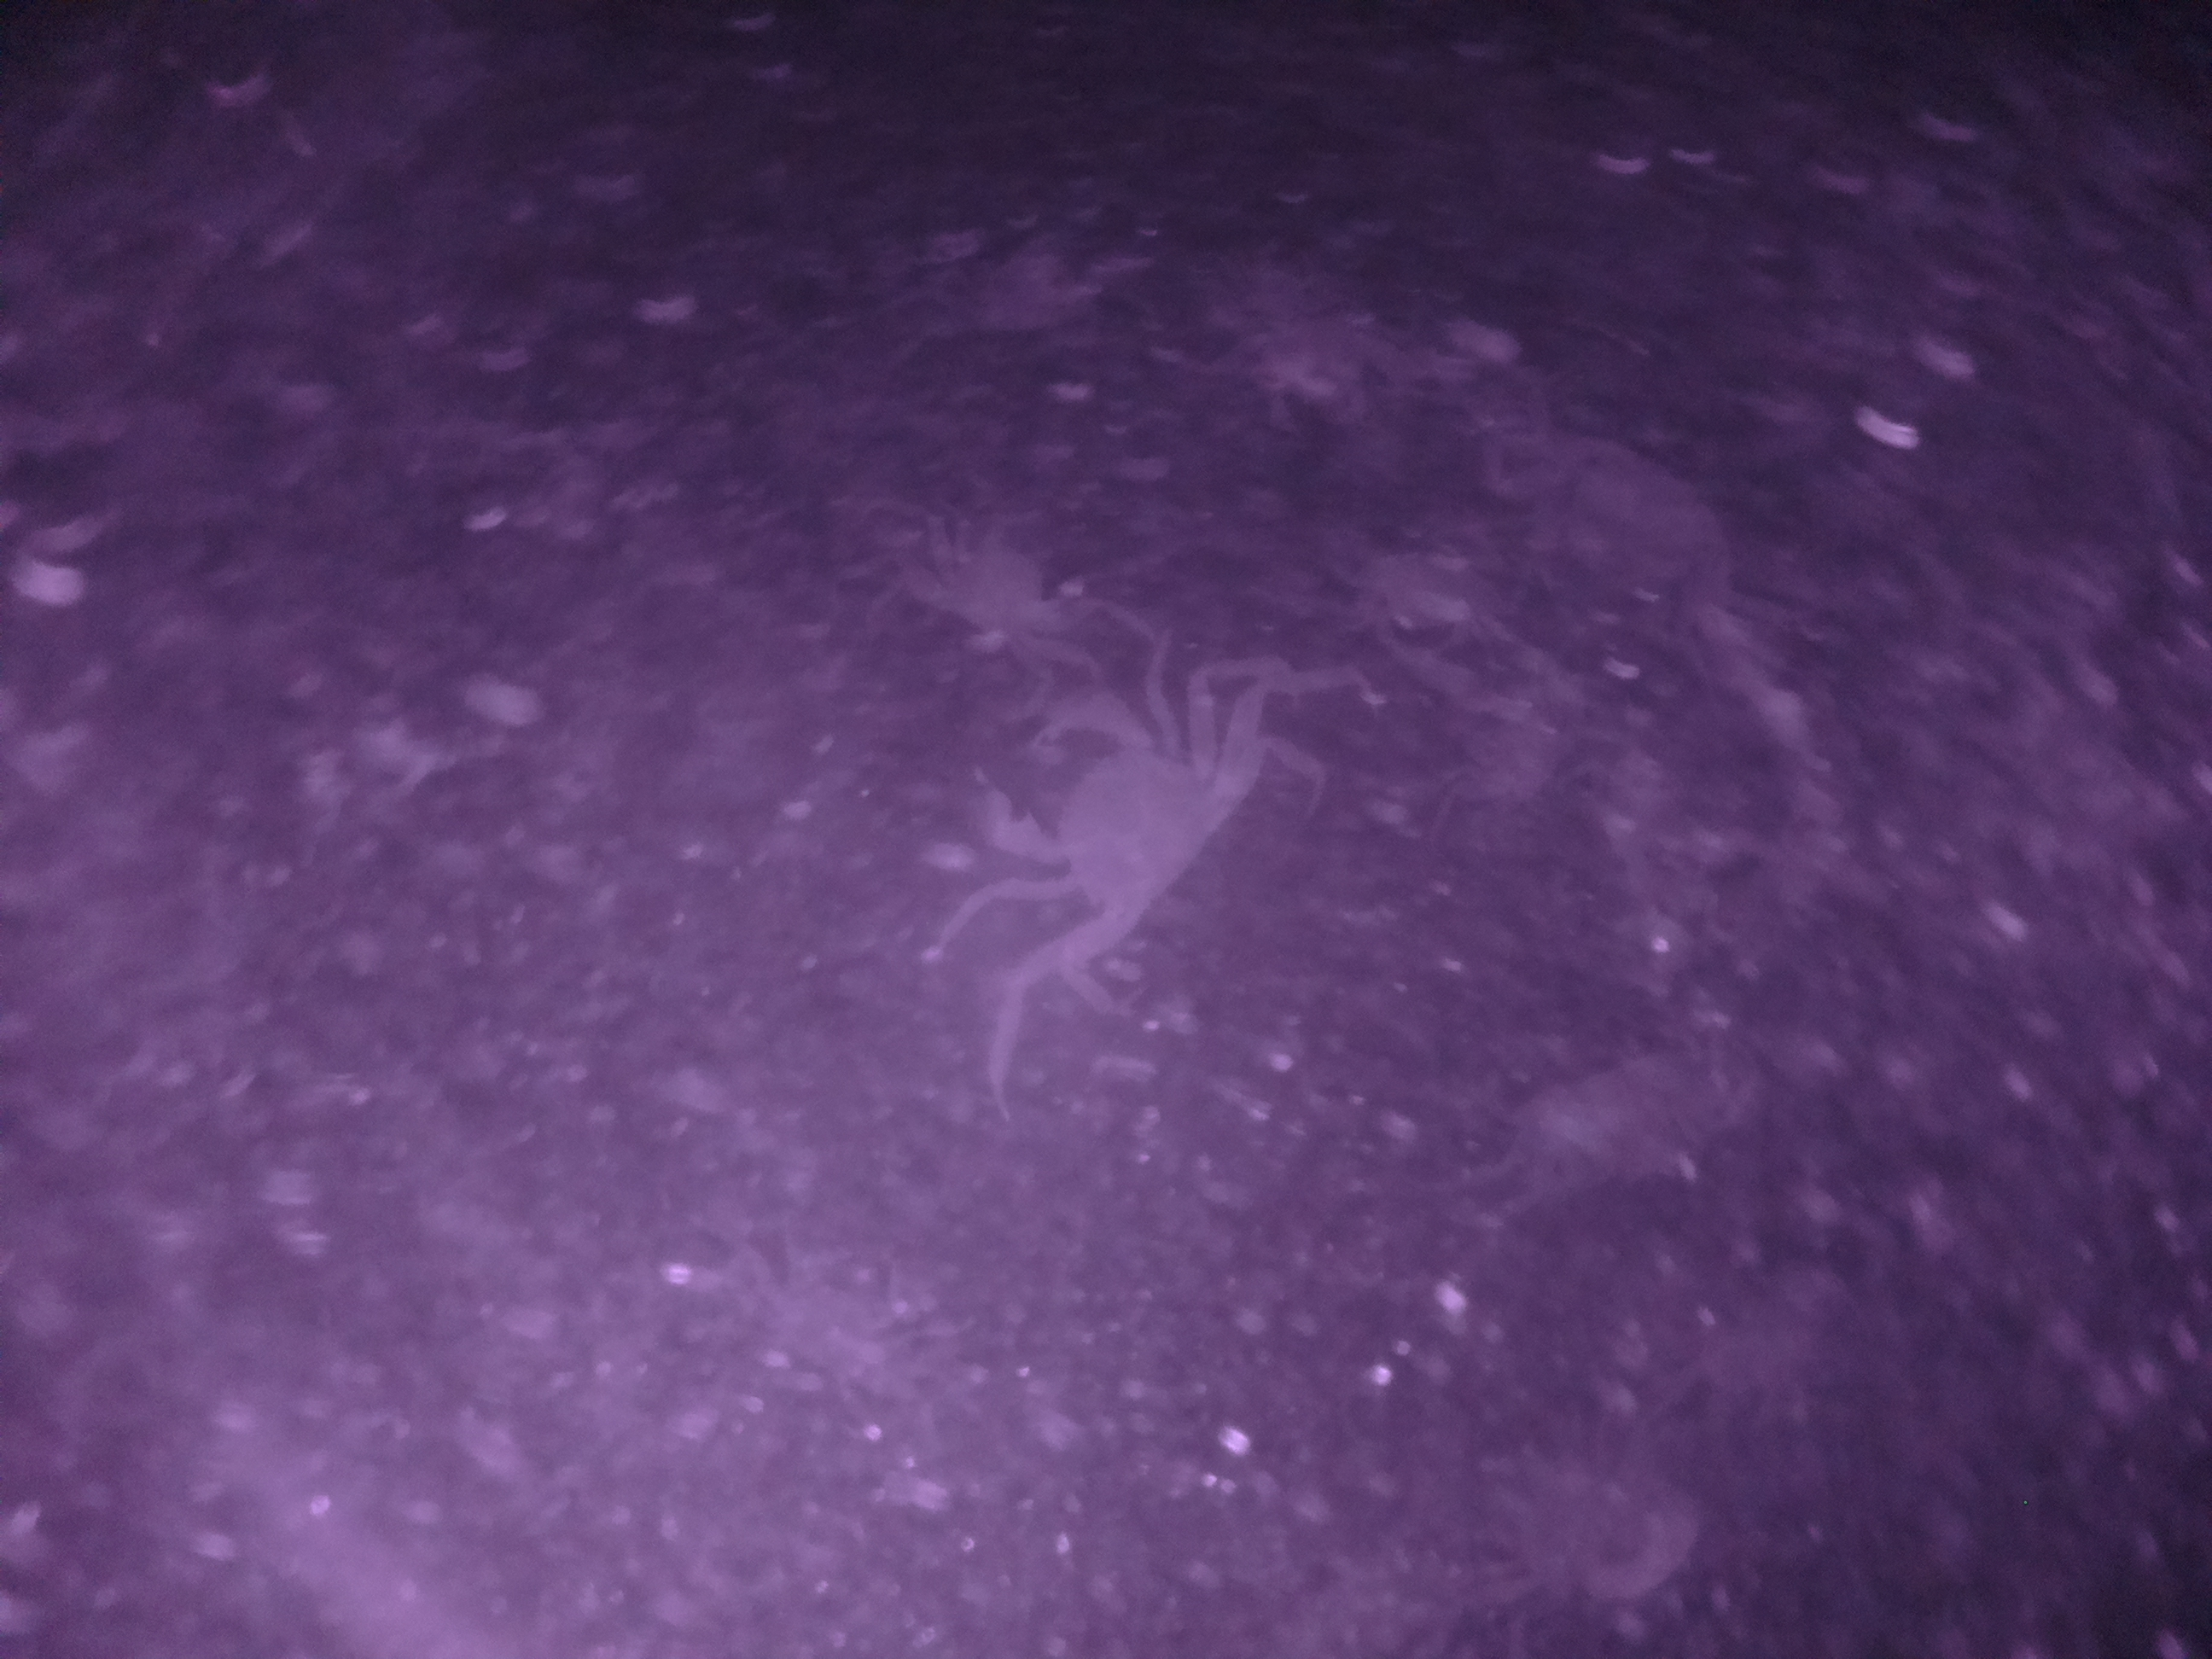Crab: (963, 678, 1247, 957), (895, 495, 1104, 662)
